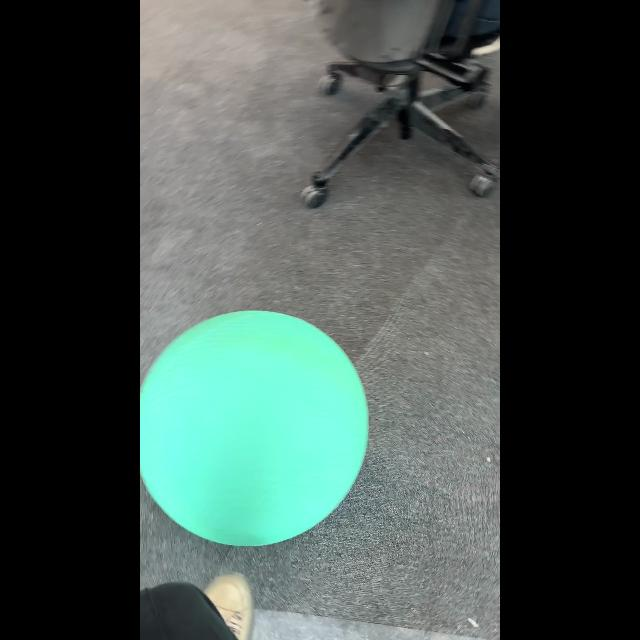ALGAE: (140, 309, 370, 547)
